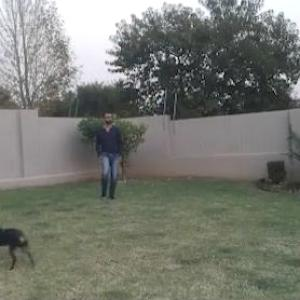follow: (95, 108, 123, 204)
